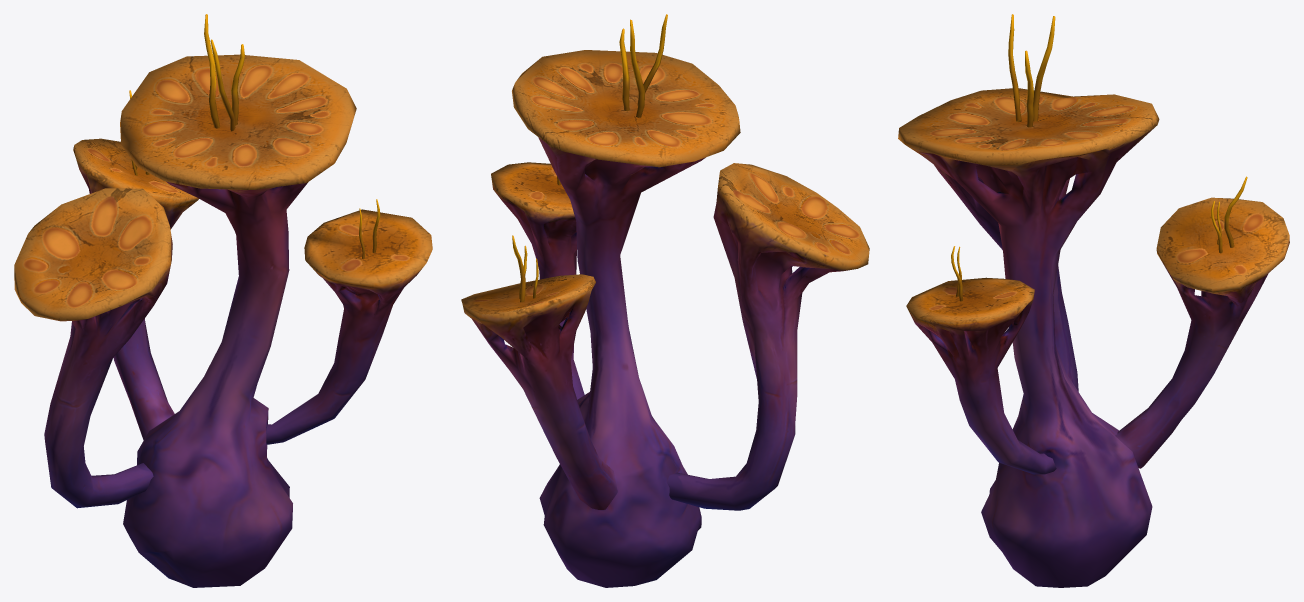
Rendered from VegetationSmall07_02.fbx.
The picture shows the model from 3 angles, left to right: view 1: azimuth 30°, elevation 25°; view 2: azimuth 150°, elevation 25°; view 3: azimuth 270°, elevation 25°; orthographic projection. The views are drawn at different scales.
Visible parts, largest first — view 1: VegetationSmall07_02_LOD00; view 2: VegetationSmall07_02_LOD00; view 3: VegetationSmall07_02_LOD00.
Part boxes in pixels (x1,y1,x2,y2): VegetationSmall07_02_LOD00: [14, 14, 432, 587]; VegetationSmall07_02_LOD00: [461, 14, 869, 587]; VegetationSmall07_02_LOD00: [898, 14, 1289, 587].
Size of what is drawn, in the model's own units: 106 by 148 by 95.64.
